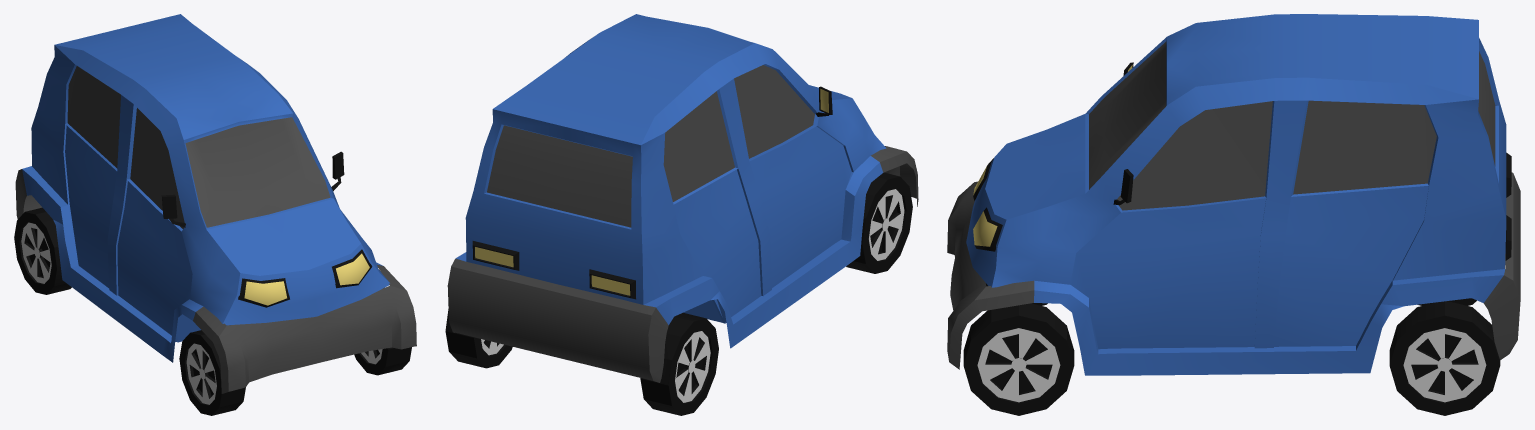
The model's file is Lowpoly-Car-000.dae.
The picture shows the model from 3 angles, left to right: view 1: azimuth 30°, elevation 25°; view 2: azimuth 150°, elevation 25°; view 3: azimuth 270°, elevation 25°; orthographic projection. The views are drawn at different scales.
Visible parts, largest first — view 1: CarBody, Bumper, Wheel, HeadLight, Mirror; view 2: CarBody, Bumper, Wheel, TailLight; view 3: CarBody, Bumper, Wheel, HeadLight, TailLight.
Part boxes in pixels (<box>): CarBody: <box>31,14,389,342</box>; Bumper: <box>15,166,416,393</box>; Wheel: <box>14,207,411,415</box>; HeadLight: <box>238,249,372,307</box>; Mirror: <box>161,151,344,227</box>; CarBody: <box>465,14,886,323</box>; Bumper: <box>447,146,918,382</box>; Wheel: <box>445,172,912,415</box>; TailLight: <box>472,241,635,299</box>; CarBody: <box>966,14,1506,349</box>; Bumper: <box>947,172,1520,375</box>; Wheel: <box>963,283,1500,415</box>; HeadLight: <box>973,158,1002,251</box>; TailLight: <box>1505,152,1511,260</box>.
Bounding box in the file's own units: 1.04 × 2.07 × 1.24.
